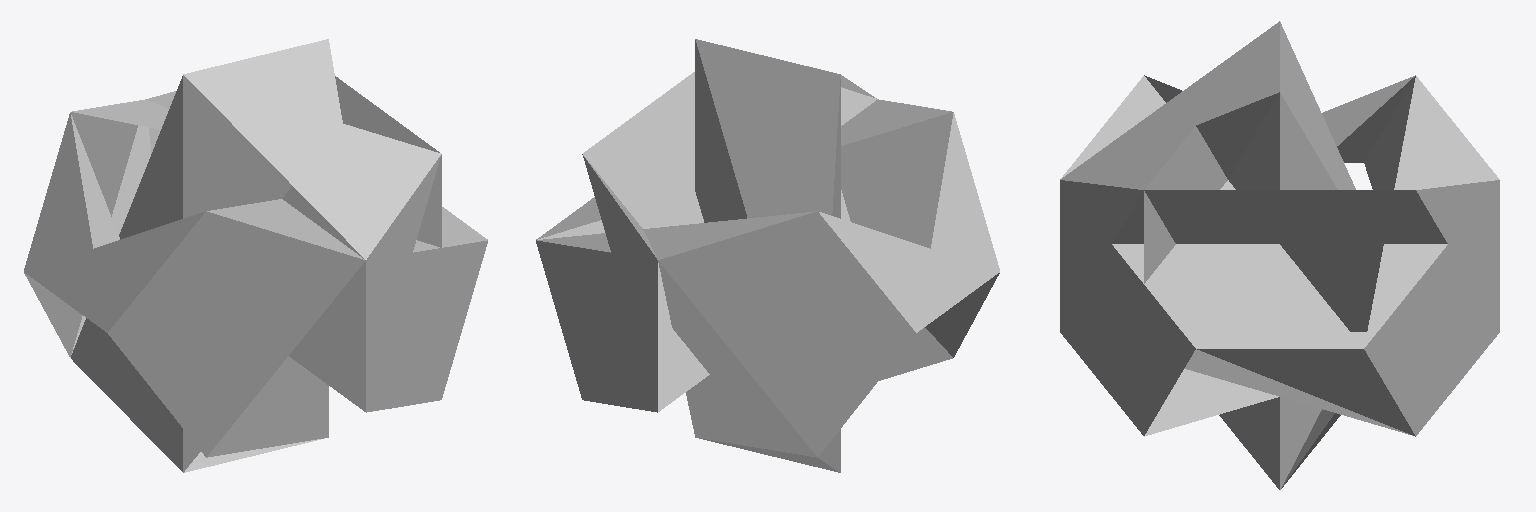
The model's file is d12_dodecahedron.obj.
3 renders of one model, left to right at view 1: azimuth 30°, elevation 25°; view 2: azimuth 150°, elevation 25°; view 3: azimuth 270°, elevation 25°, orthographic.
Bounding box in the file's own units: 3.24 × 3.24 × 3.24.